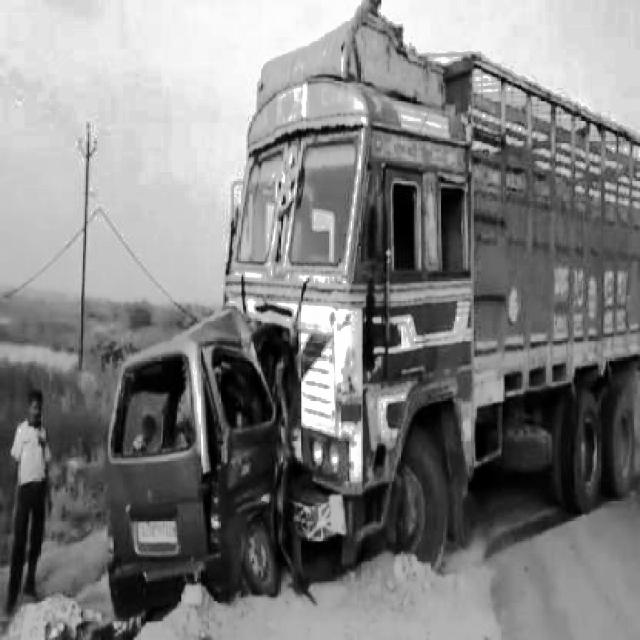HCV: (271, 95, 639, 514)
